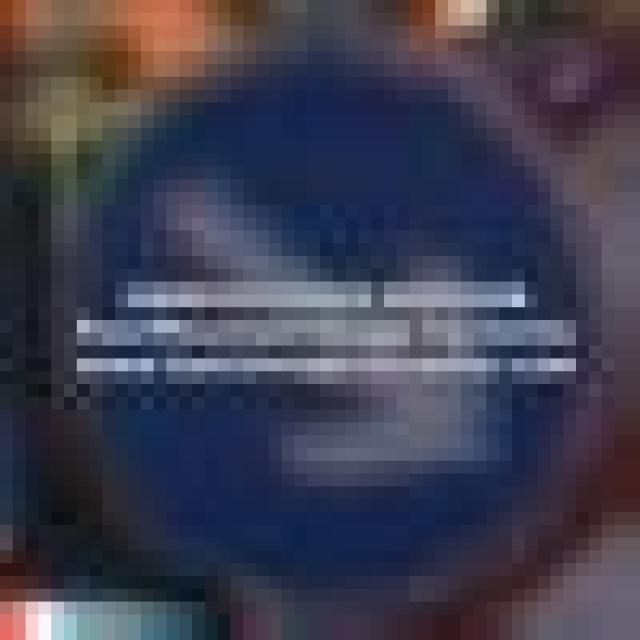compulsory_keep_left: (0, 0, 627, 627)
